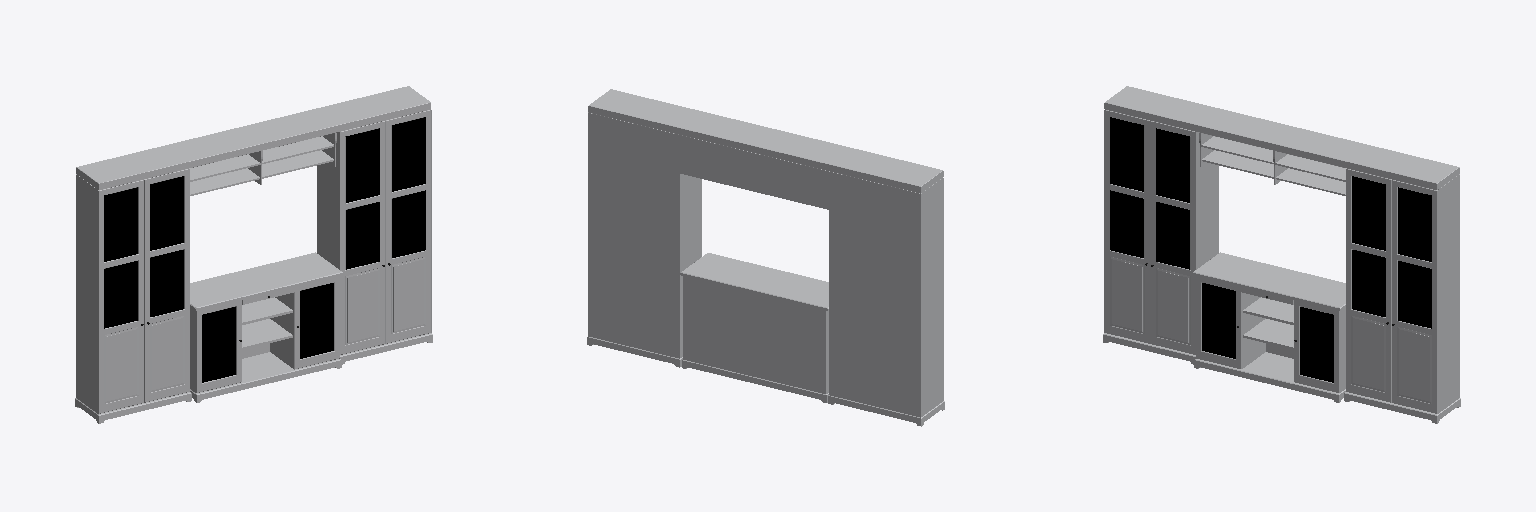
File: dining_room.obj
3 renders of one model, left to right at view 1: azimuth 30°, elevation 25°; view 2: azimuth 150°, elevation 25°; view 3: azimuth 330°, elevation 25°, orthographic.
Visible parts, largest first — view 1: left_doors_Cube.005, right_doors_Cube.002, principal_Cube, top_Cube.007, glasses_doorL_Cube.004, glasses_doorR_Cube.003, glases_Cube.001, shelves_Cube.008; view 2: left_doors_Cube.005, right_doors_Cube.002, principal_Cube, top_Cube.007, shelves_Cube.008; view 3: right_doors_Cube.002, left_doors_Cube.005, principal_Cube, top_Cube.007, glasses_doorR_Cube.003, glasses_doorL_Cube.004, glases_Cube.001, shelves_Cube.008.
Boxes of the visible parts, x1,y1,x2,y2 form: left_doors_Cube.005: [75, 168, 191, 423]; right_doors_Cube.002: [317, 110, 432, 364]; principal_Cube: [190, 252, 342, 402]; top_Cube.007: [76, 86, 430, 189]; glasses_doorL_Cube.004: [104, 176, 183, 328]; glasses_doorR_Cube.003: [346, 117, 425, 269]; glases_Cube.001: [202, 283, 333, 382]; shelves_Cube.008: [190, 133, 336, 195]; left_doors_Cube.005: [828, 171, 944, 426]; right_doors_Cube.002: [587, 113, 701, 367]; principal_Cube: [680, 253, 828, 402]; top_Cube.007: [588, 89, 943, 193]; shelves_Cube.008: [680, 135, 828, 209]; right_doors_Cube.002: [1344, 168, 1460, 423]; left_doors_Cube.005: [1103, 110, 1218, 364]; principal_Cube: [1193, 252, 1345, 402]; top_Cube.007: [1104, 86, 1459, 189]; glasses_doorR_Cube.003: [1352, 176, 1431, 328]; glasses_doorL_Cube.004: [1110, 117, 1189, 269]; glases_Cube.001: [1202, 283, 1333, 382]; shelves_Cube.008: [1199, 133, 1345, 195].
Size of the model in its own units: 2.56 by 1.75 by 0.3643.